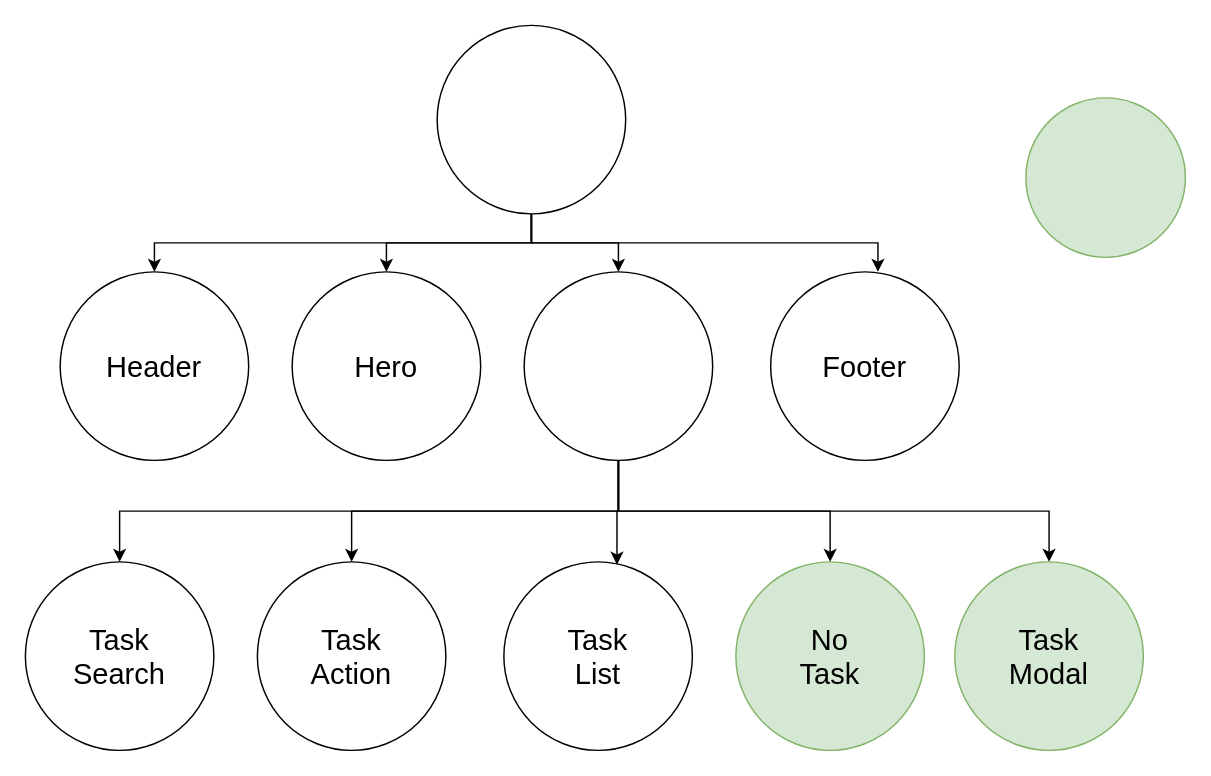
The diagram is 1211 pixels wide and 776 high, and some of its shapes have lost their labels. The box of each missing label's shape, as (x1, y1, x2, y2) in pixels:
Conditional Color: (1024, 96, 1185, 257)
Task Board: (523, 270, 713, 460)
tasker app: (436, 24, 626, 214)
